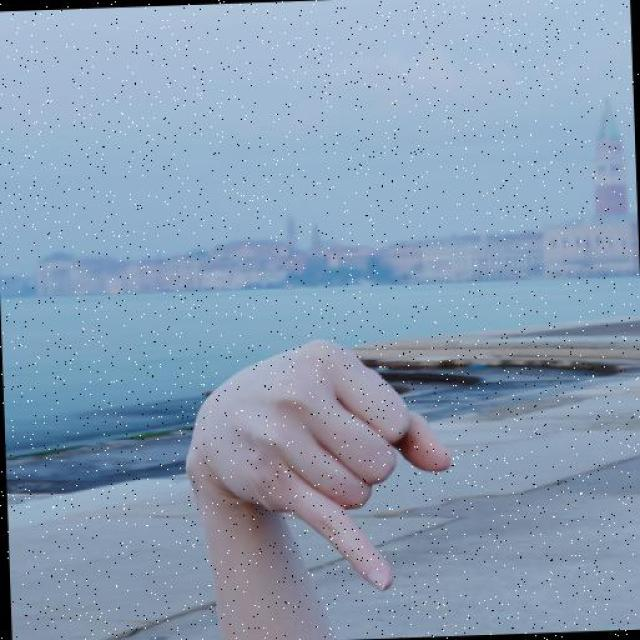J: (175, 323, 458, 604)
